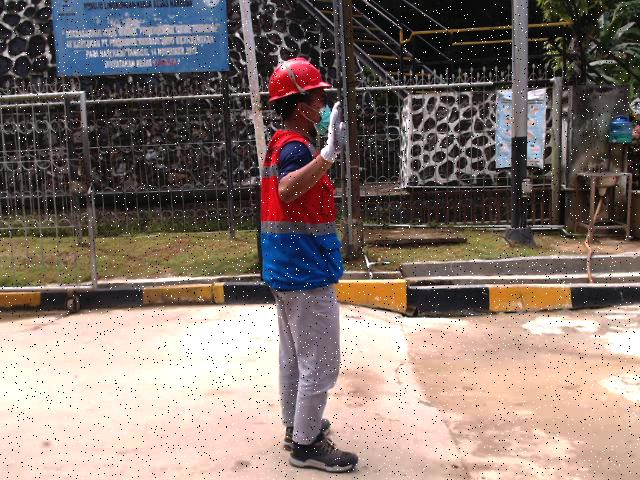gloves: (318, 103, 349, 168)
helmet: (265, 54, 329, 101)
mask: (298, 102, 336, 137)
safety-shoes: (292, 432, 360, 475), (274, 410, 334, 447)
